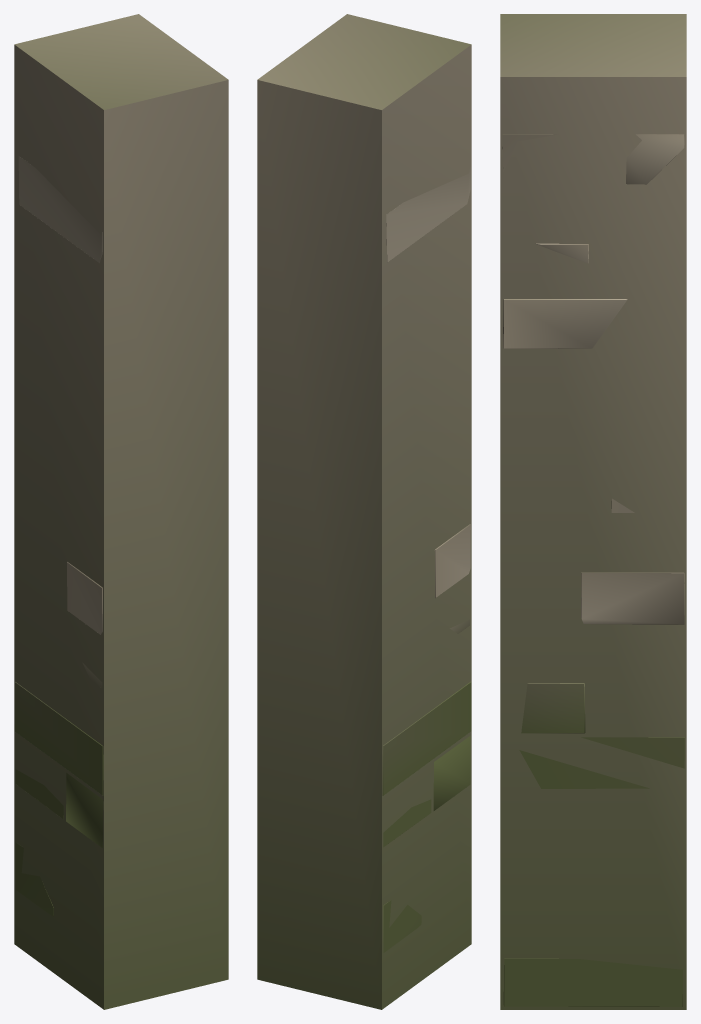
The model's file is aqueduct_pier_broken.glb.
The picture shows the model from 3 angles, left to right: view 1: azimuth 30°, elevation 25°; view 2: azimuth 150°, elevation 25°; view 3: azimuth 270°, elevation 25°; orthographic projection. The views are drawn at different scales.
Parts seen in each view (by area): view 1: aqueduct_pier_broken_far, aqueduct_pier_broken; view 2: aqueduct_pier_broken_far, aqueduct_pier_broken; view 3: aqueduct_pier_broken_far, aqueduct_pier_broken.
Part boxes in pixels (left/top/right/bottom): aqueduct_pier_broken_far: left=14, top=14, right=228, bottom=1009; aqueduct_pier_broken: left=14, top=156, right=103, bottom=916; aqueduct_pier_broken_far: left=257, top=14, right=471, bottom=1009; aqueduct_pier_broken: left=382, top=167, right=471, bottom=952; aqueduct_pier_broken_far: left=500, top=14, right=686, bottom=1009; aqueduct_pier_broken: left=502, top=134, right=684, bottom=1006.
Bounding box in the file's own units: 4.04 × 27.6 × 5.
